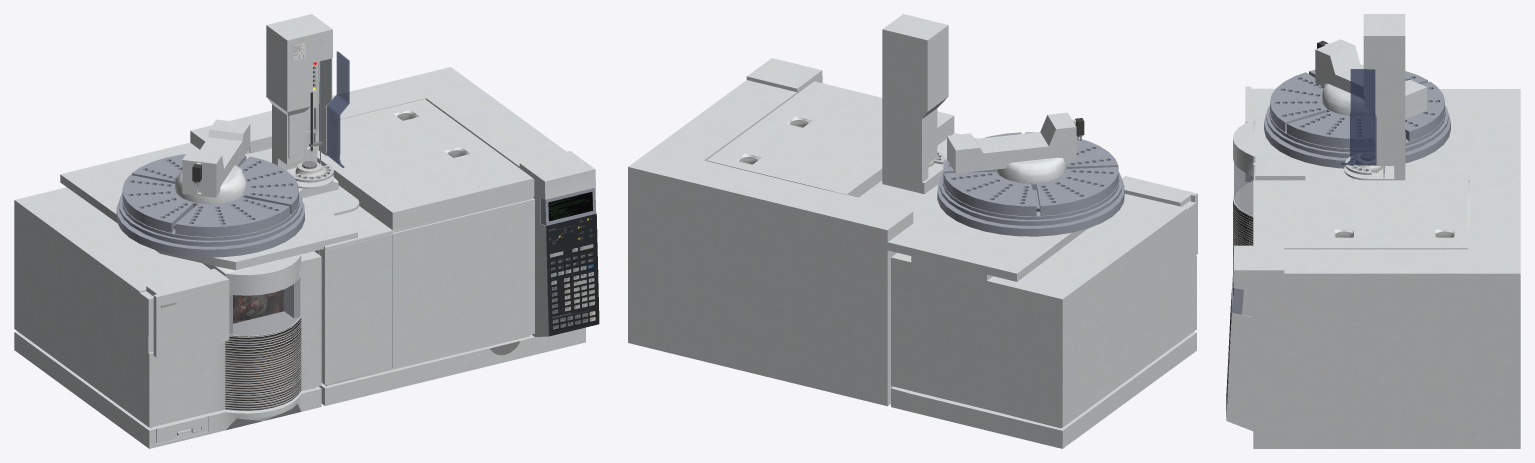
File: SM_气质联用仪仪器.FBX
3 renders of one model, left to right at view 1: azimuth 30°, elevation 25°; view 2: azimuth 150°, elevation 25°; view 3: azimuth 270°, elevation 25°, orthographic.
Parts seen in each view (by area): view 1: SM_气质联用仪仪器_01, SM_气质联用仪仪器_09, SM_气质联用仪仪器_08, SM_气质联用仪仪器_10, SM_气质联用仪仪器_02; view 2: SM_气质联用仪仪器_01, SM_气质联用仪仪器_09, SM_气质联用仪仪器_08, SM_气质联用仪仪器_10; view 3: SM_气质联用仪仪器_01, SM_气质联用仪仪器_09, SM_气质联用仪仪器_08, SM_气质联用仪仪器_10, SM_气质联用仪仪器_02.
Part boxes in pixels (bbox=[...]): SM_气质联用仪仪器_01: bbox=[14, 14, 599, 448]; SM_气质联用仪仪器_09: bbox=[122, 154, 298, 236]; SM_气质联用仪仪器_08: bbox=[182, 119, 250, 197]; SM_气质联用仪仪器_10: bbox=[175, 165, 246, 203]; SM_气质联用仪仪器_02: bbox=[292, 162, 333, 182]; SM_气质联用仪仪器_01: bbox=[628, 14, 1197, 448]; SM_气质联用仪仪器_09: bbox=[943, 132, 1118, 216]; SM_气质联用仪仪器_08: bbox=[947, 112, 1076, 173]; SM_气质联用仪仪器_10: bbox=[995, 157, 1066, 183]; SM_气质联用仪仪器_01: bbox=[1226, 14, 1520, 448]; SM_气质联用仪仪器_09: bbox=[1270, 70, 1444, 148]; SM_气质联用仪仪器_08: bbox=[1315, 39, 1426, 119]; SM_气质联用仪仪器_10: bbox=[1322, 83, 1372, 115]; SM_气质联用仪仪器_02: bbox=[1345, 153, 1383, 174].
Size of the model in its own units: 1292 by 906 by 761.
